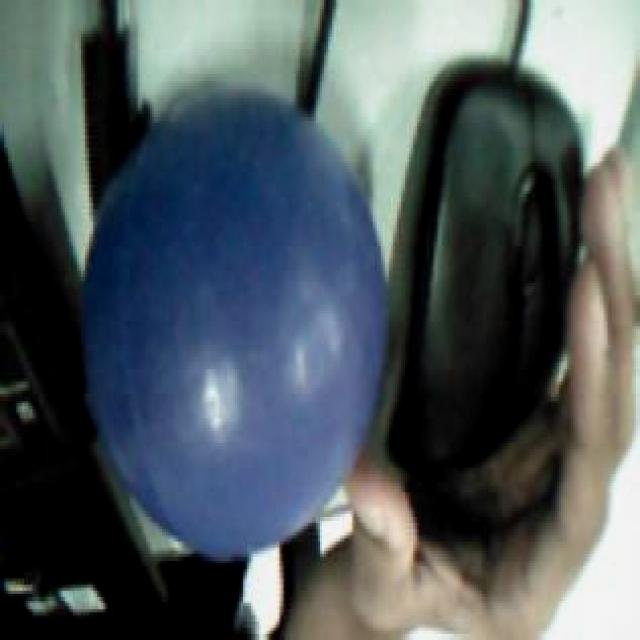BallPurple: (75, 80, 387, 552)
